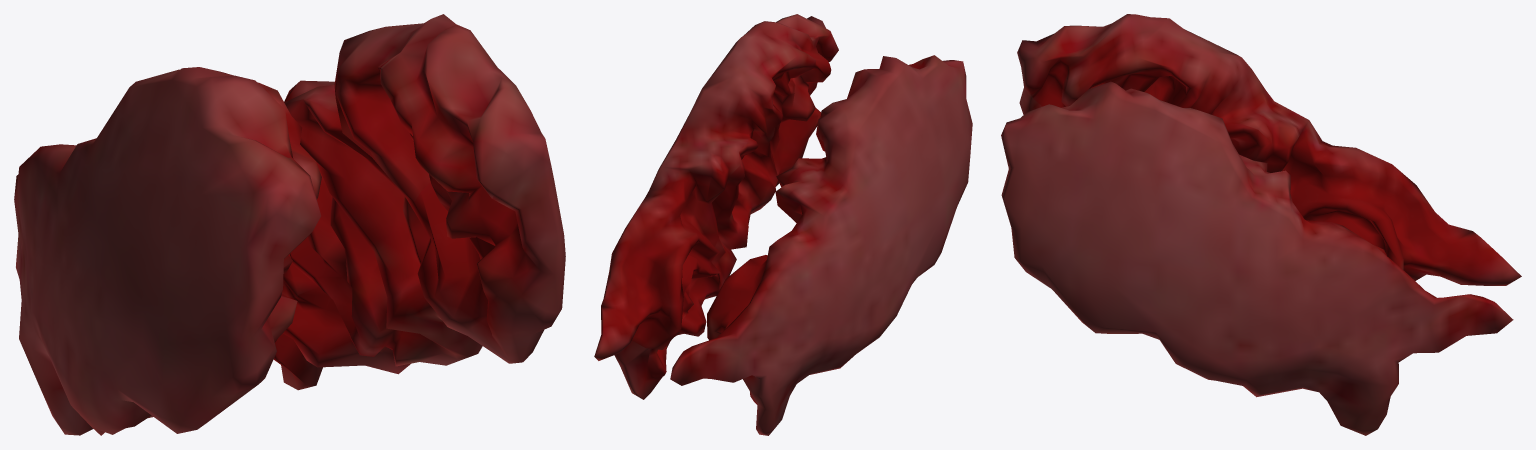
Rendered from Ethmoid_Turbinates.glb.
3 views of the same model, side by side, from view 1: azimuth 30°, elevation 25°; view 2: azimuth 150°, elevation 25°; view 3: azimuth 270°, elevation 25° (orthographic). The views are drawn at different scales.
Parts seen in each view (by area): view 1: ethmoid_turbinates.002; view 2: ethmoid_turbinates.002; view 3: ethmoid_turbinates.002.
Boxes of the visible parts, <box> form: ethmoid_turbinates.002: <box>14,14,565,435</box>; ethmoid_turbinates.002: <box>594,14,972,435</box>; ethmoid_turbinates.002: <box>1001,14,1521,435</box>.
Bounding box in the file's own units: 0.0603 × 0.0746 × 0.1038.
Materials: 1 (1 with a texture image).
